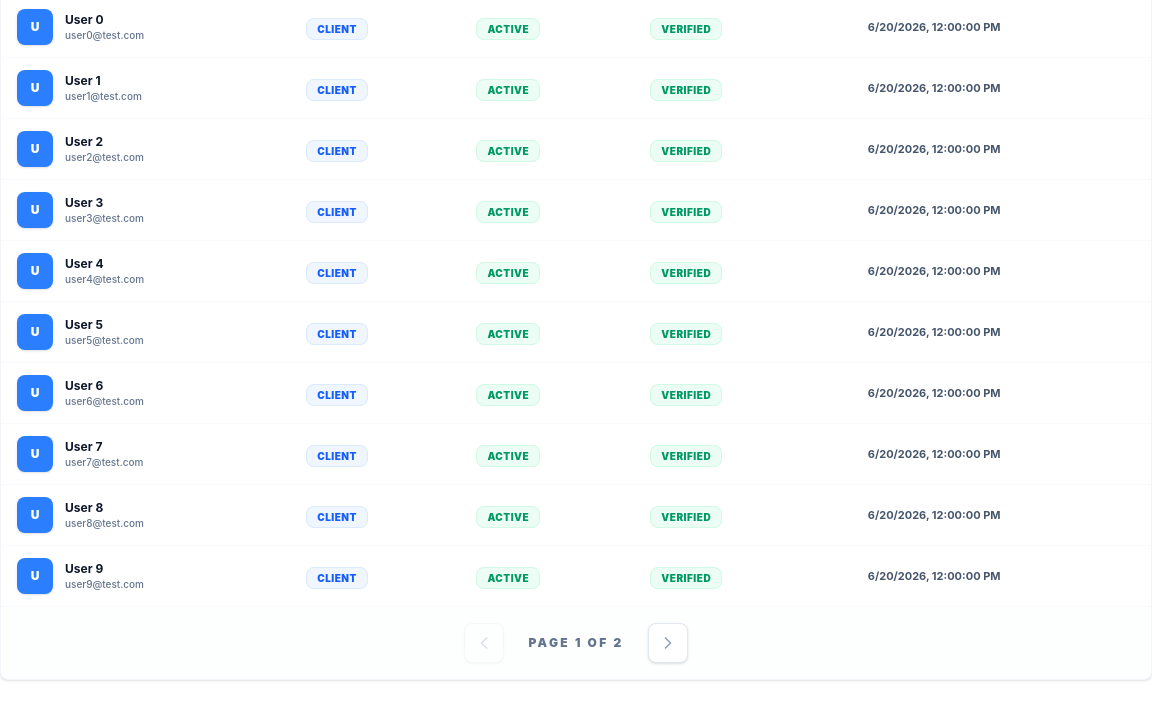
Scenario: UserManagementPage › navigates pagination when clicking pagination controls
The width and height of the screenshot is (1152, 720).
(page scrolled)
Expected: the text "User 0" is shown, [65,12,104,26]
Expected: the text "User 10" is not shown
Click the button with class "lucide-chevron-right" at (668, 643), box [648,623,688,663]
(page scrolled)
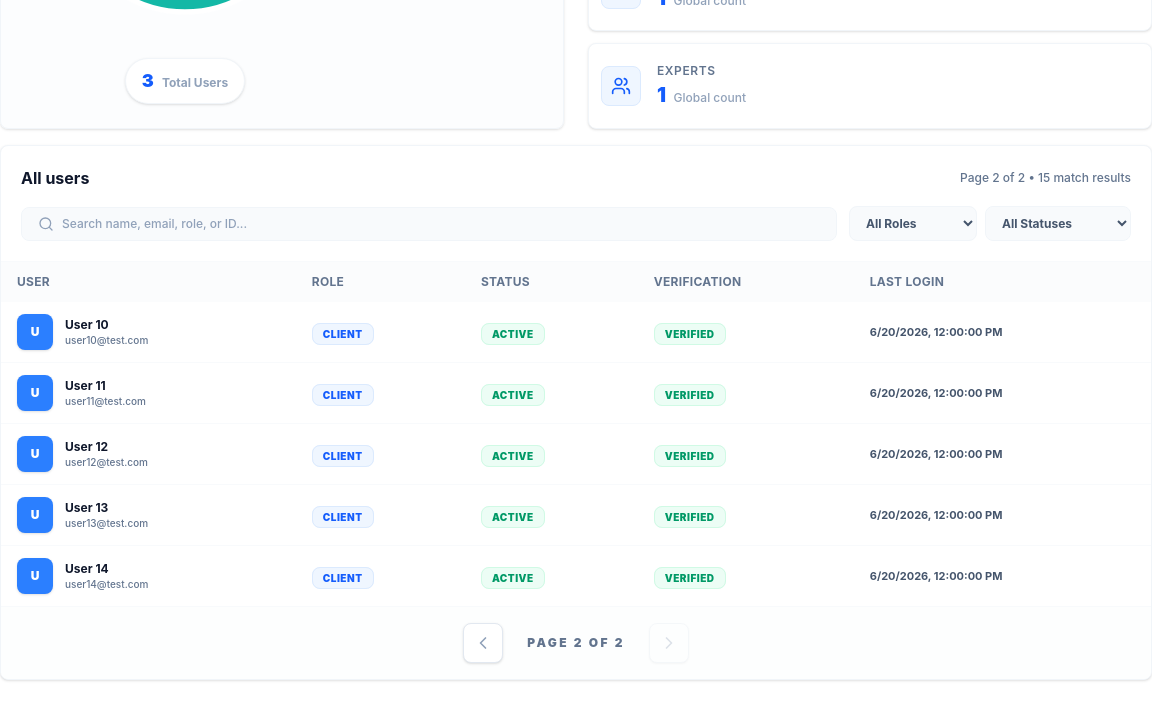
Now the text "User 0" is gone
Now the text "User 10" is shown, box [65,316,109,332]
